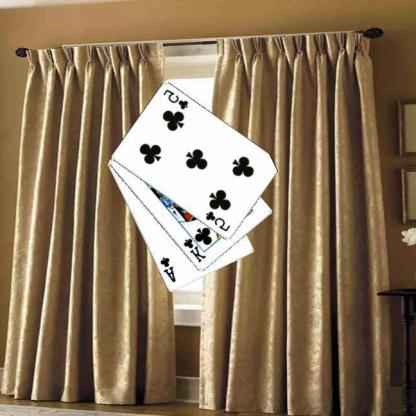5C: (204, 209, 234, 233), (162, 87, 192, 111)
AC: (159, 255, 179, 284)
KC: (182, 230, 210, 264)
